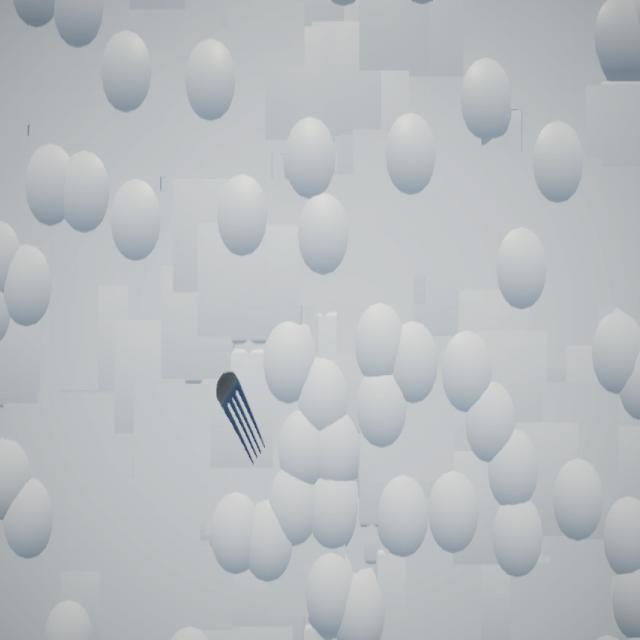top_folk: (217, 373, 266, 466)
